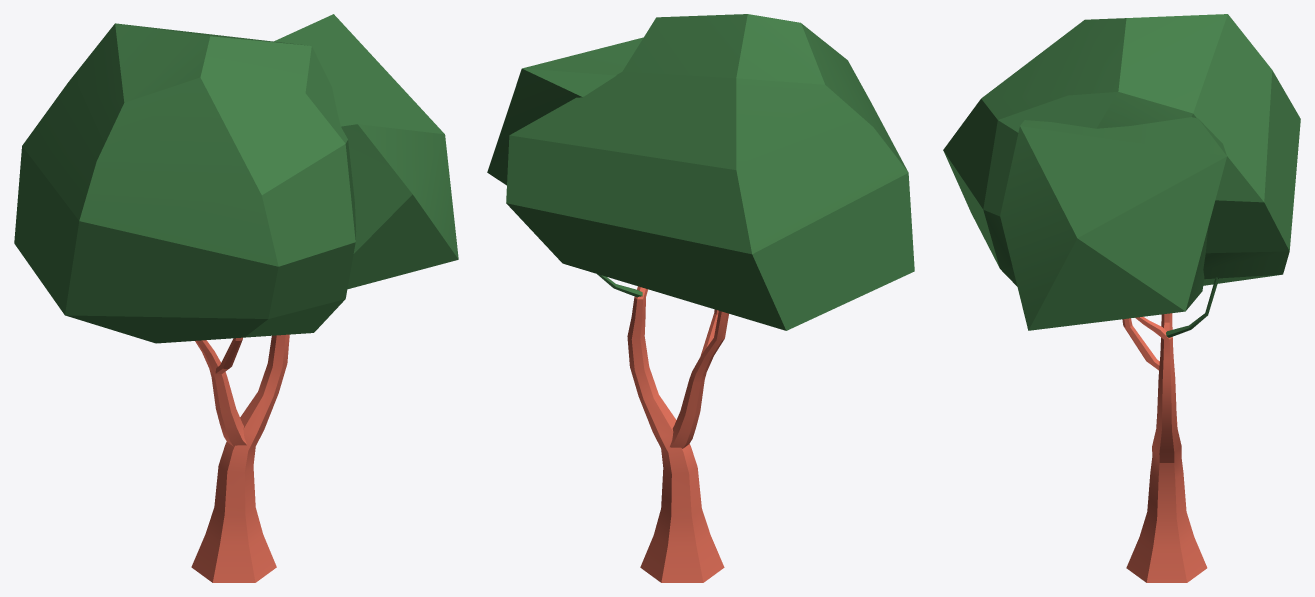
Rendered from tree_1.fbx.
3 views of the same model, side by side, from view 1: azimuth 30°, elevation 25°; view 2: azimuth 150°, elevation 25°; view 3: azimuth 270°, elevation 25° (orthographic). The views are drawn at different scales.
Parts seen in each view (by area): view 1: tree_1; view 2: tree_1; view 3: tree_1.
Part boxes in pixels (box(x1,y1,x2,y2)): tree_1: box(14, 14, 458, 582); tree_1: box(487, 14, 914, 582); tree_1: box(943, 14, 1300, 582).
Size of the model in its own units: 689 by 939 by 575.
